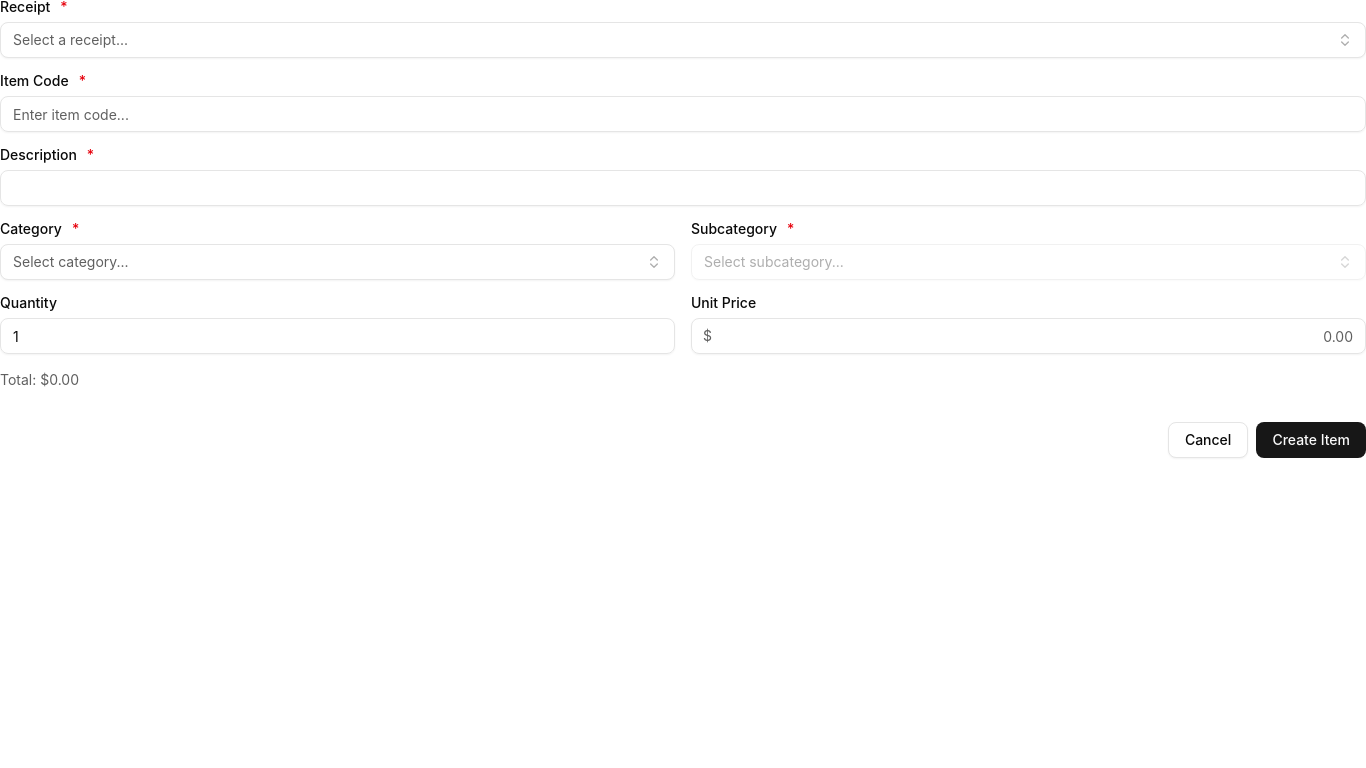
Scenario: ReceiptItemForm › shows item template suggestions when typing a matching description
Type "Milk" into the dropdown labelled "Description *" at (683, 188), box 0,170 -> 1365,206
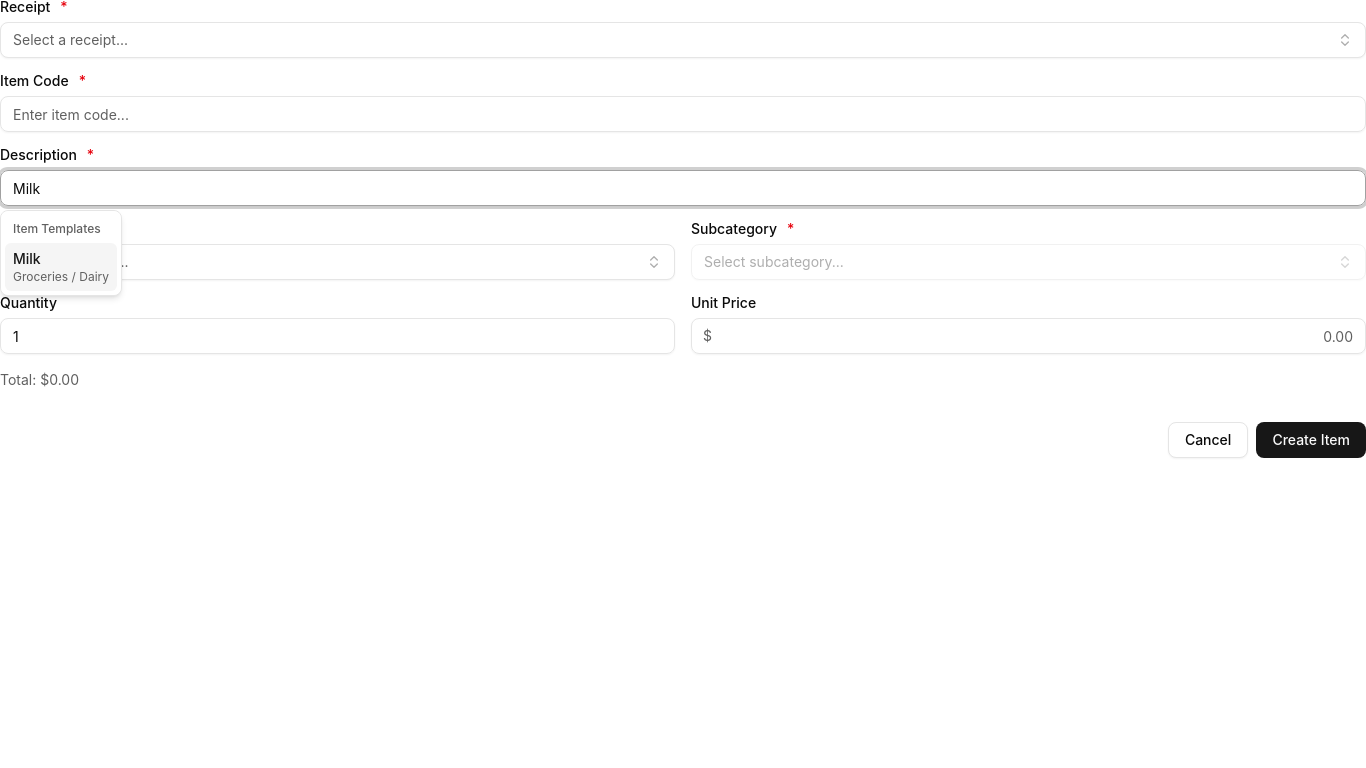
Expected: the text "Item Templates" is shown, 13,221 -> 101,236
